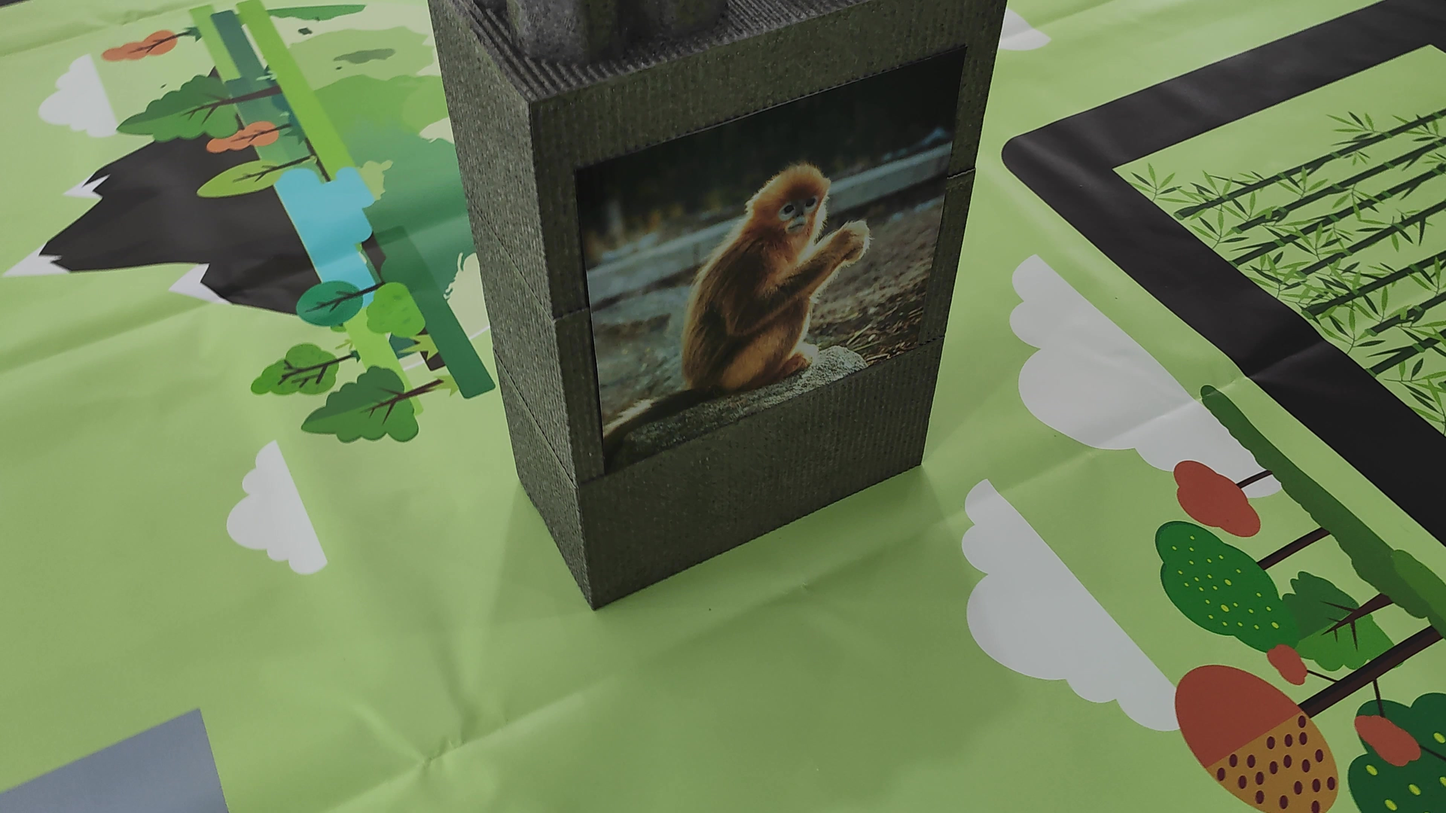monkey: (597, 160, 897, 440)
